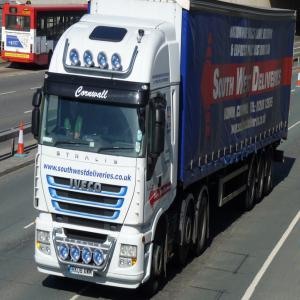Vehicle-registration-plate: (72, 266, 94, 277)
